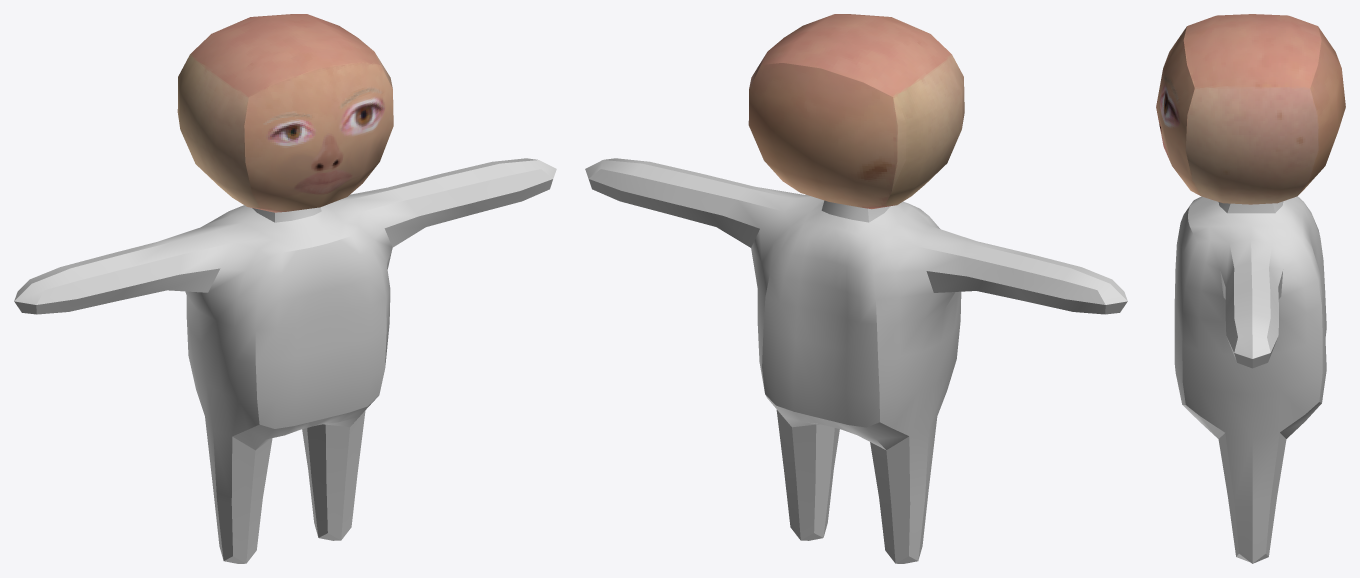
Rendered from Guy1.fbx.
The picture shows the model from 3 angles, left to right: view 1: azimuth 30°, elevation 25°; view 2: azimuth 150°, elevation 25°; view 3: azimuth 270°, elevation 25°; orthographic projection.
Visible parts, largest first — view 1: GuyBody, GuyHead; view 2: GuyBody, GuyHead; view 3: GuyBody, GuyHead.
Part boxes in pixels (x1=…): GuyBody: x1=14, y1=158, x2=556, y2=563; GuyHead: x1=177, y1=14, x2=393, y2=212; GuyBody: x1=585, y1=158, x2=1127, y2=563; GuyHead: x1=748, y1=14, x2=964, y2=209; GuyBody: x1=1174, y1=196, x2=1326, y2=563; GuyHead: x1=1156, y1=14, x2=1345, y2=204.
Size of the model in its own units: 764 by 703 by 236.
